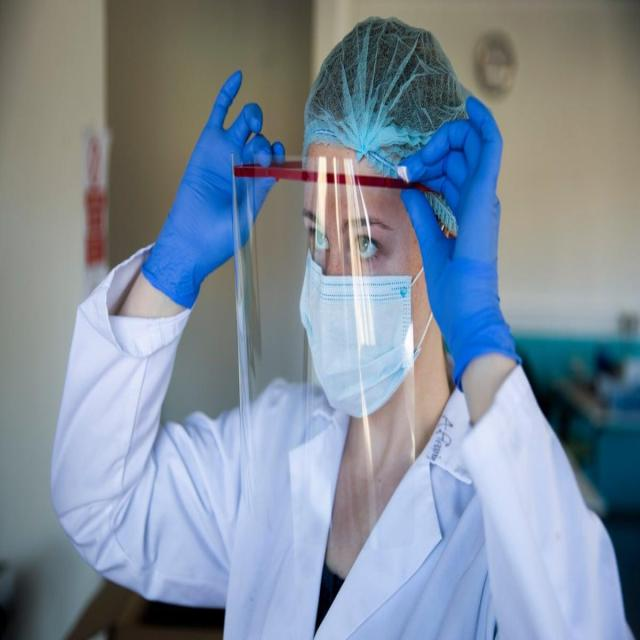Gloves: (396, 93, 520, 389), (140, 63, 286, 314)
Mask: (299, 255, 416, 422)
